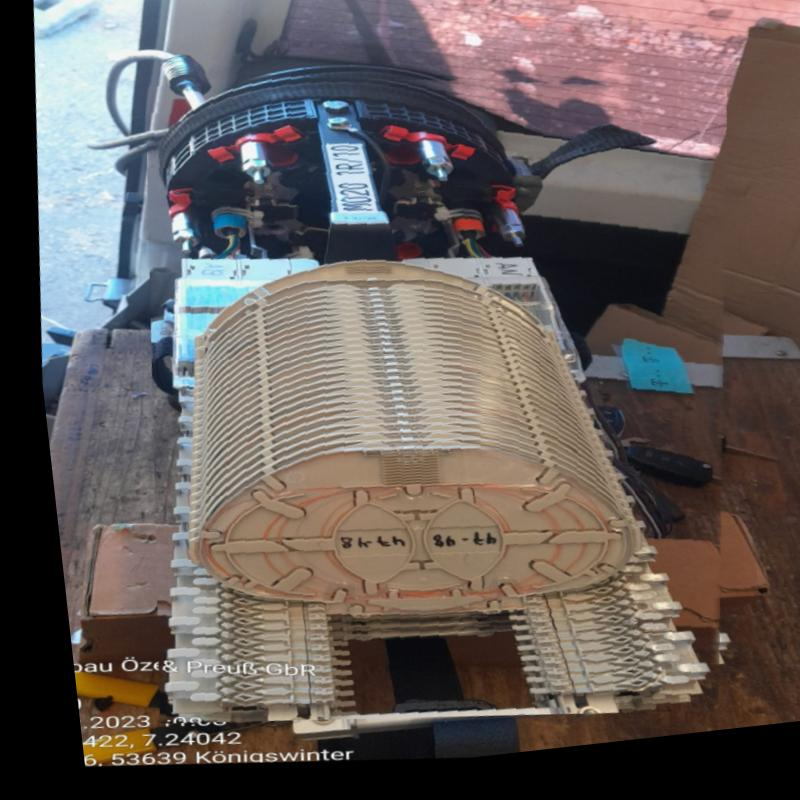NT-Muffen: (87, 24, 779, 776)
